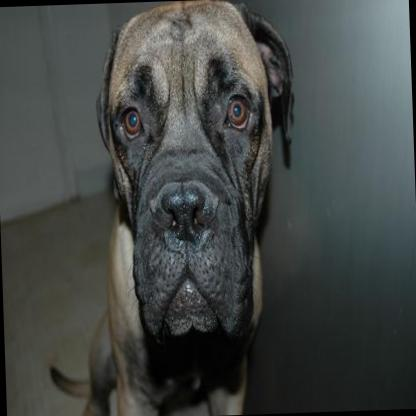bull_mastiff: (32, 0, 306, 416)
